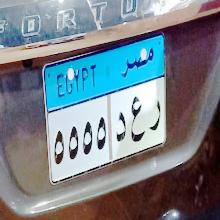5: (94, 113, 108, 152), (53, 127, 65, 169), (67, 125, 80, 163), (82, 119, 94, 160)
ain: (130, 92, 145, 146)
daal: (115, 103, 128, 146)
raa: (149, 96, 163, 137)
